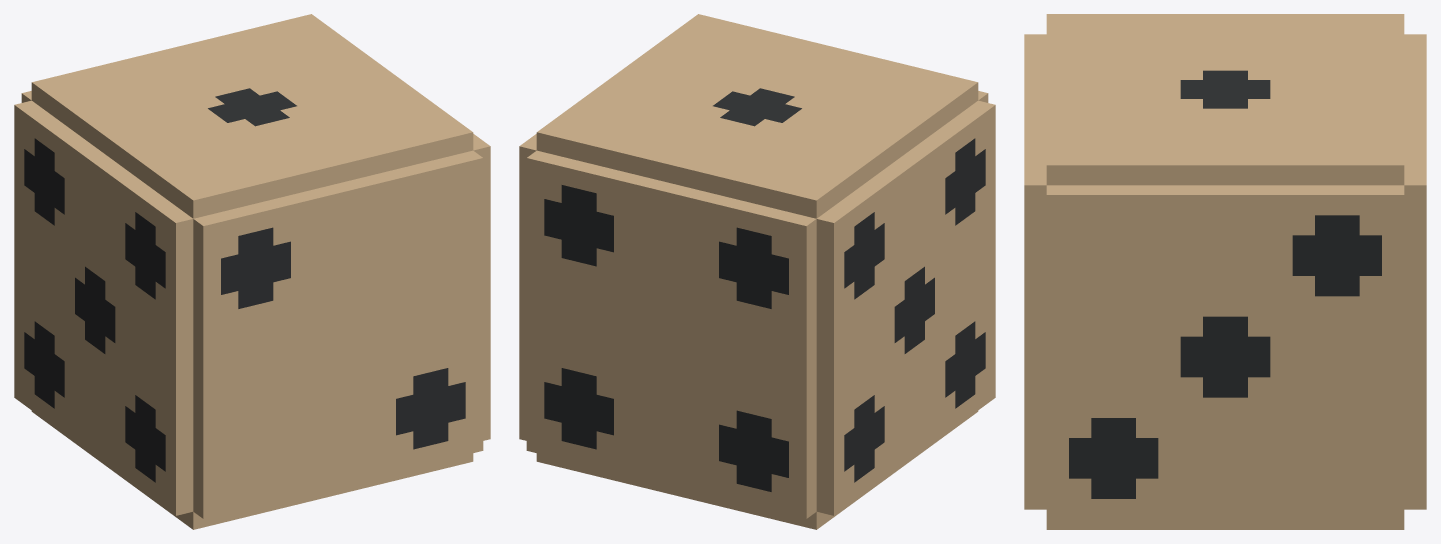
The model's file is dice-v3-tan-black.gltf.
3 views of the same model, side by side, from view 1: azimuth 30°, elevation 25°; view 2: azimuth 150°, elevation 25°; view 3: azimuth 270°, elevation 25° (orthographic). The views are drawn at different scales.
Parts seen in each view (by area): view 1: Untitled; view 2: Untitled; view 3: Untitled.
Boxes of the visible parts, x1=… form: Untitled: x1=14, y1=14, x2=490, y2=529; Untitled: x1=519, y1=14, x2=995, y2=529; Untitled: x1=1024, y1=14, x2=1426, y2=529.
Size of the model in its own units: 1.8 by 1.8 by 1.8.
1 material, 1 textured.
